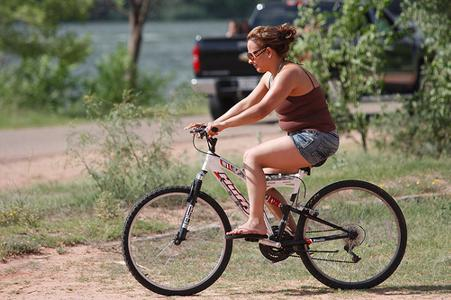person: (185, 24, 341, 247)
